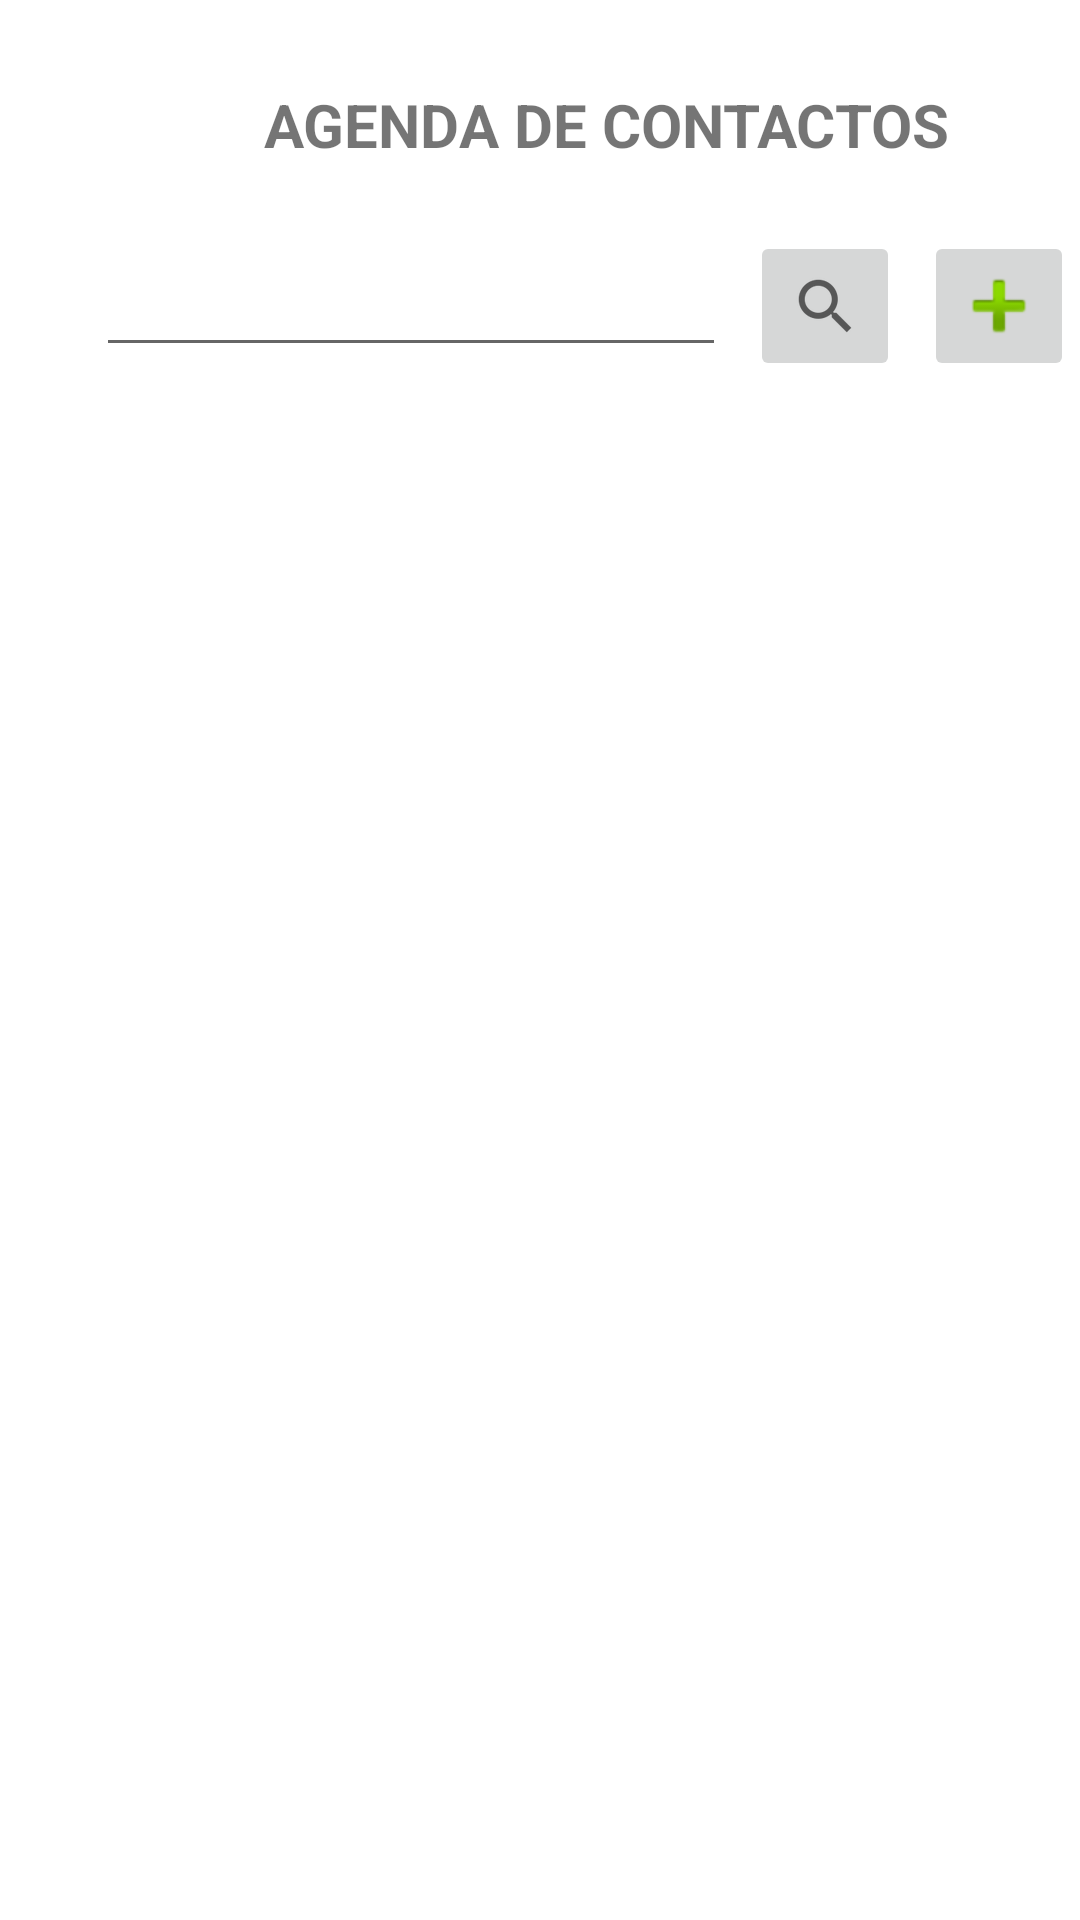

Named icons in this screenshot (1080px×1920px) and their bounding boxes, BBox(x1, y1, x2, y2):
add: BBox(936, 249, 1062, 363)
